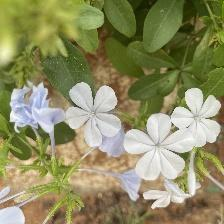chitrak: (123, 112, 195, 182), (70, 81, 125, 148), (173, 88, 223, 147)
